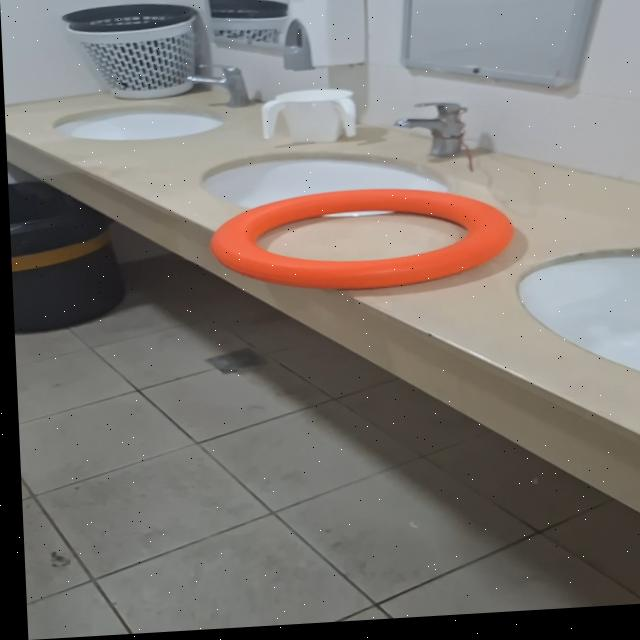note: (204, 185, 515, 302)
